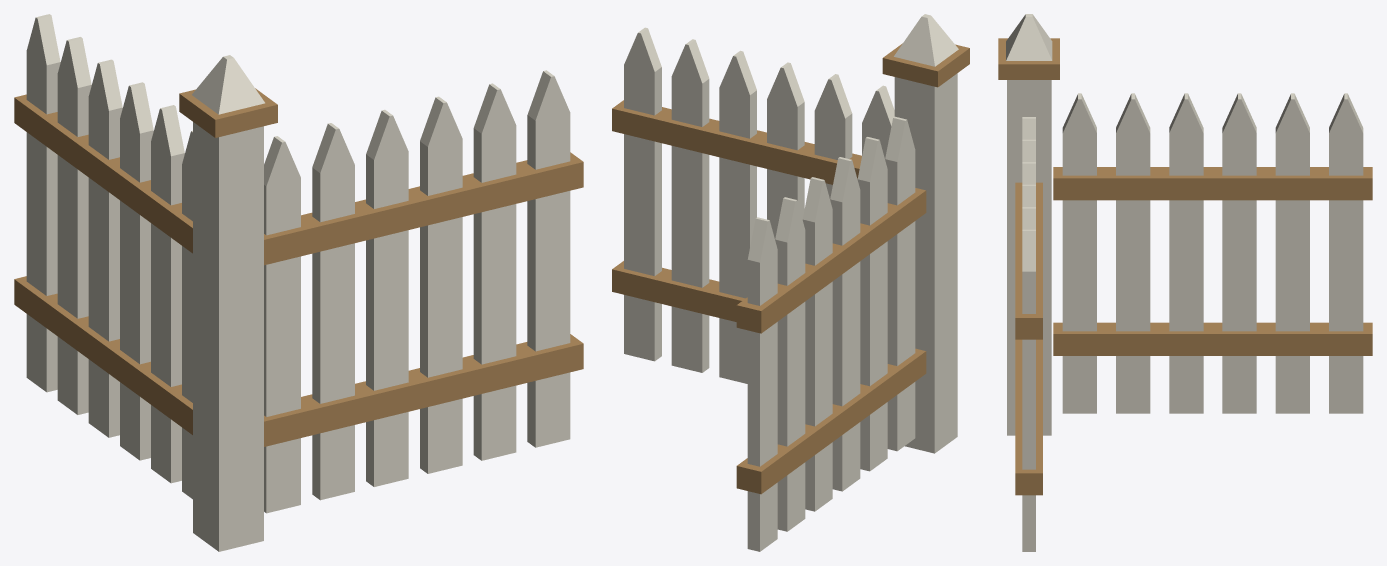
File: picket_corner.glb
3 views of the same model, side by side, from view 1: azimuth 30°, elevation 25°; view 2: azimuth 150°, elevation 25°; view 3: azimuth 270°, elevation 25° (orthographic). The views are drawn at different scales.
Visible parts, largest first — view 1: fence_picket_corner; view 2: fence_picket_corner; view 3: fence_picket_corner.
Part boxes in pixels (<box>): fence_picket_corner: <box>14,14,583,551</box>; fence_picket_corner: <box>612,14,969,551</box>; fence_picket_corner: <box>998,14,1372,551</box>.
Size of the model in its own units: 1.09 by 1.32 by 1.09.
